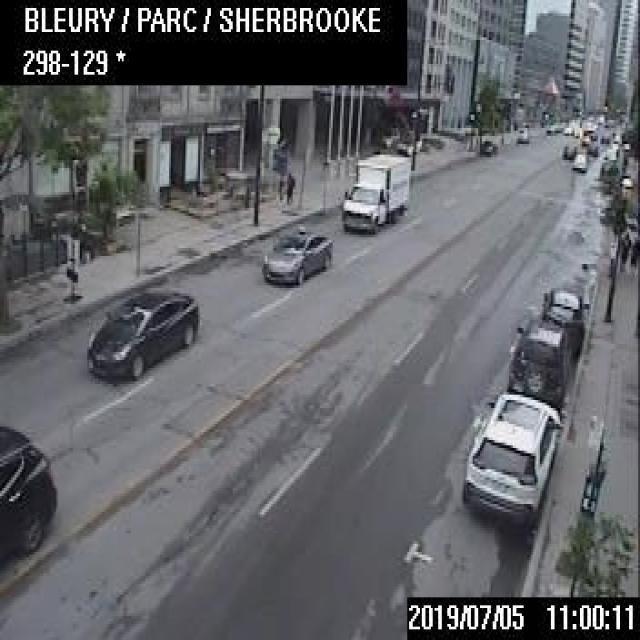pedestrian: (618, 229, 630, 271), (284, 170, 293, 205), (630, 236, 638, 268)
vehicle: (462, 389, 560, 525), (82, 282, 200, 378), (0, 418, 56, 568), (338, 151, 411, 232), (507, 318, 568, 406), (260, 225, 331, 282), (540, 283, 589, 352), (572, 150, 586, 171), (480, 136, 496, 152), (514, 125, 528, 142), (561, 141, 575, 157)
